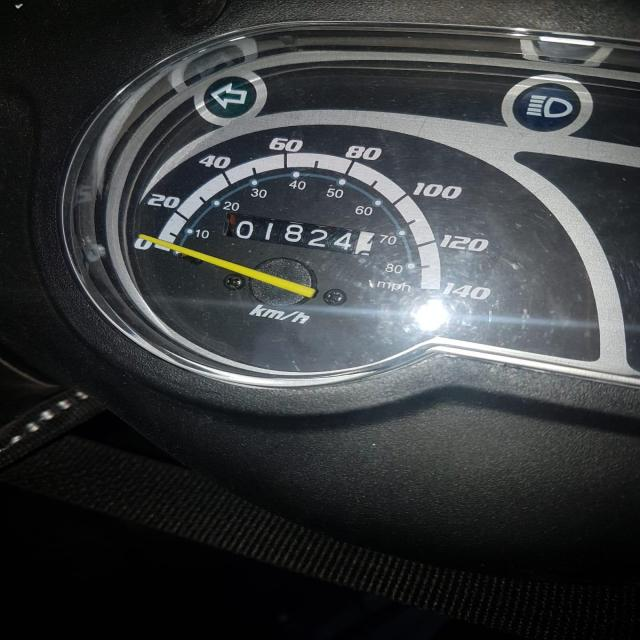odometer: (219, 213, 379, 258)
